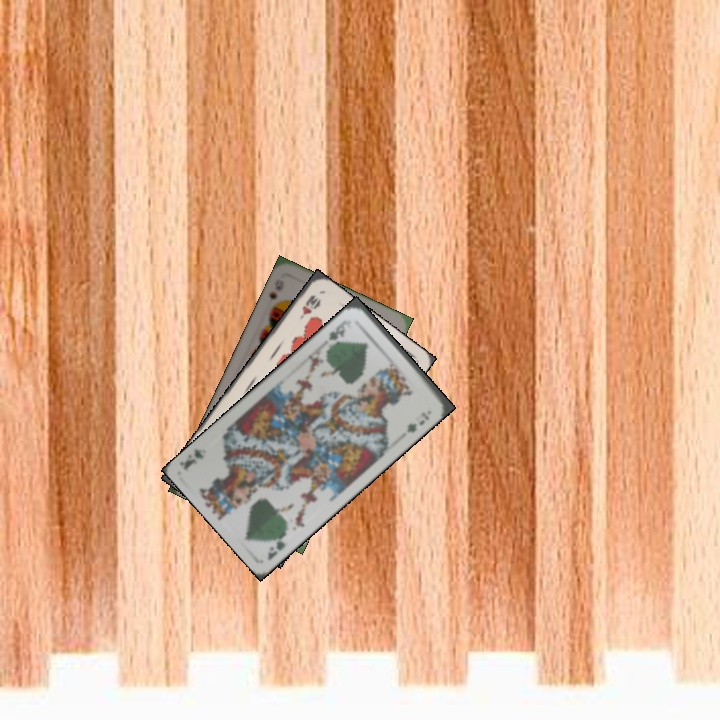GK: (263, 526, 289, 563), (324, 317, 352, 343)
H10: (295, 290, 322, 322)
S9: (265, 288, 280, 313)
